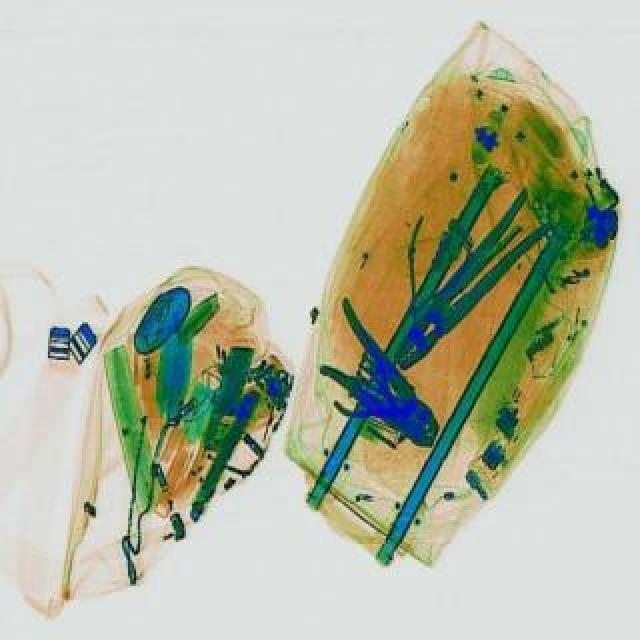wrench: (378, 186, 562, 378), (288, 294, 466, 460), (322, 356, 422, 444)
